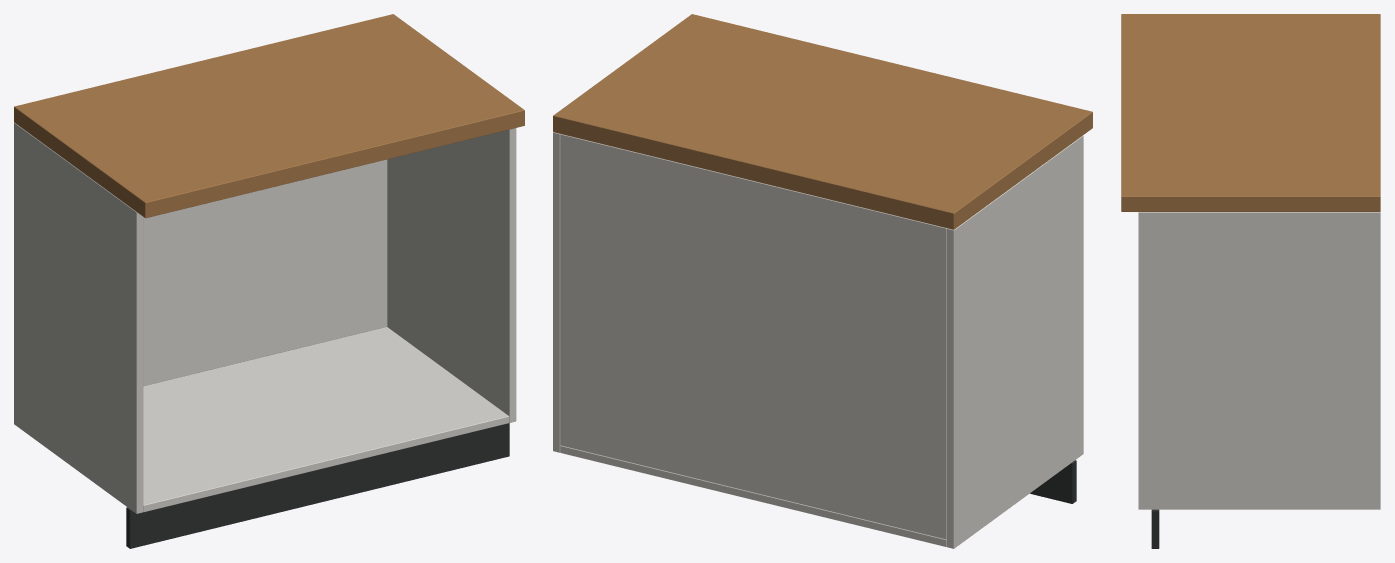
The model's file is drawer_base_cabinet_wide_body.glb.
3 renders of one model, left to right at view 1: azimuth 30°, elevation 25°; view 2: azimuth 150°, elevation 25°; view 3: azimuth 270°, elevation 25°, orthographic. The views are drawn at different scales.
Parts seen in each view (by area): view 1: drawer_base_cabinet_wide_body; view 2: drawer_base_cabinet_wide_body; view 3: drawer_base_cabinet_wide_body.
Part boxes in pixels (left/top/right/bottom): drawer_base_cabinet_wide_body: left=14, top=14, right=524, bottom=548; drawer_base_cabinet_wide_body: left=553, top=14, right=1092, bottom=548; drawer_base_cabinet_wide_body: left=1121, top=14, right=1380, bottom=548.
Bounding box in the file's own units: 1 × 0.9 × 0.6.
